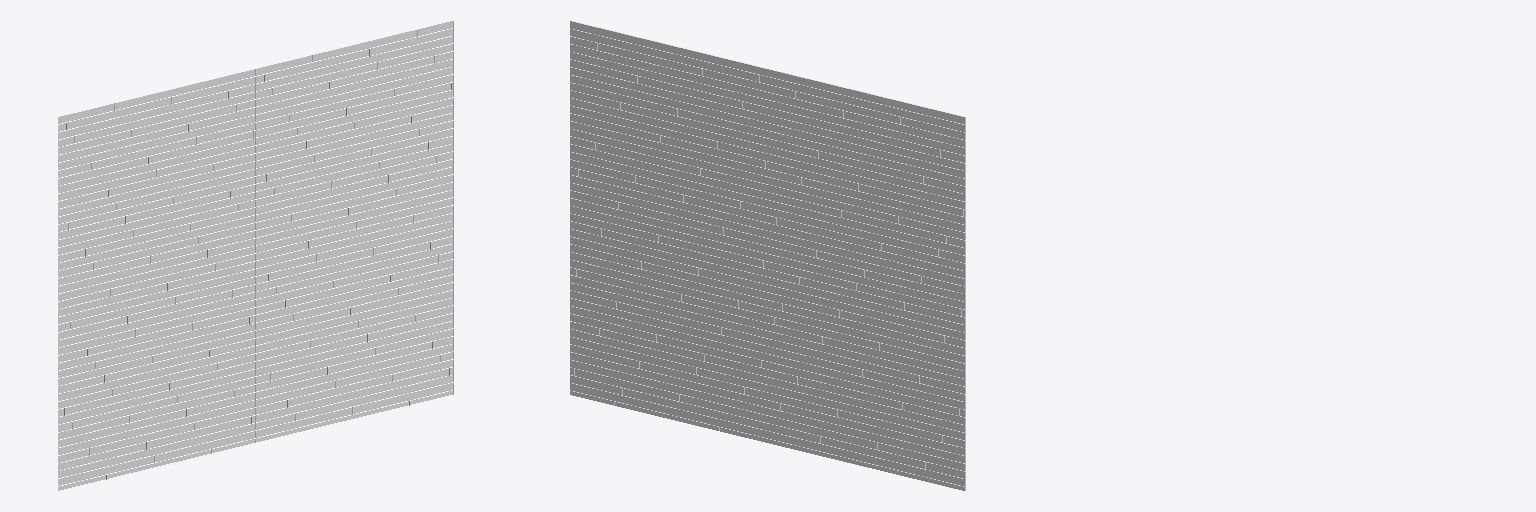
The robot description file, URDF, robot "floor_1_cha.urdf":
<?xml version="1.0" ?>
<robot name="floor_1_cha.urdf">
  <link name="baseLink">
    <inertial>
      <origin rpy="0 0 0" xyz="0 0 0"/>
       <mass value="0.0"/>
       <inertia ixx="0" ixy="0" ixz="0" iyy="0" iyz="0" izz="0"/>
    </inertial>
    <visual>
      <origin rpy="0 0 0" xyz="0 0 0"/>
      <geometry>
        <mesh filename="floor_1_cha.obj" scale="1.0 1.0 1.0"/>
      </geometry>
      <material name="white">
       <color rgba="1 1 1 1"/>
     </material>
    </visual>
    <collision concave="yes">
      <origin rpy="0 0 0" xyz="0 0 0"/>
      <geometry>
        <mesh filename="floor_1_cha.obj" scale="1.0 1.0 1.0"/>
        <!-- You could also specify the collision (for the floor_1_cha) with a "box" tag: -->
        <!-- <box size=".06 .06 .06"/> -->
      </geometry>
    </collision>
  </link>
</robot>
        

--- Facts derived from the render (not from the file) ---
The picture shows the robot from 3 angles, left to right: view 1: azimuth 30°, elevation 25°; view 2: azimuth 150°, elevation 25°; view 3: azimuth 270°, elevation 25°; orthographic projection.
Model floor_1_cha.urdf with 1 links and 0 joints (none), rooted at baseLink, posed every joint at zero.
Visible links, largest first — view 1: baseLink; view 2: baseLink; view 3: none.
Link boxes in pixels (bbox=[...]): baseLink: bbox=[58, 21, 453, 490]; baseLink: bbox=[570, 21, 965, 490].
Size in the robot's own frame: 188 by 0.3145 by 170 metres.
Meshes: 1 distinct files referenced, 1 mesh visuals loaded (1 OBJ).
